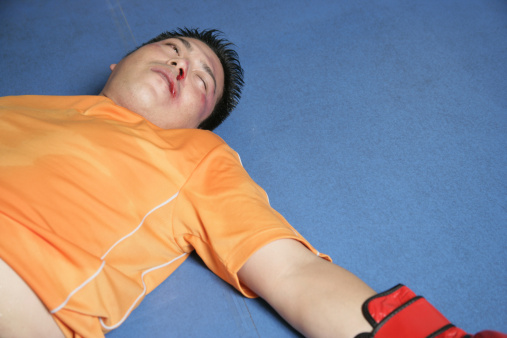deitado: (0, 5, 381, 338)
